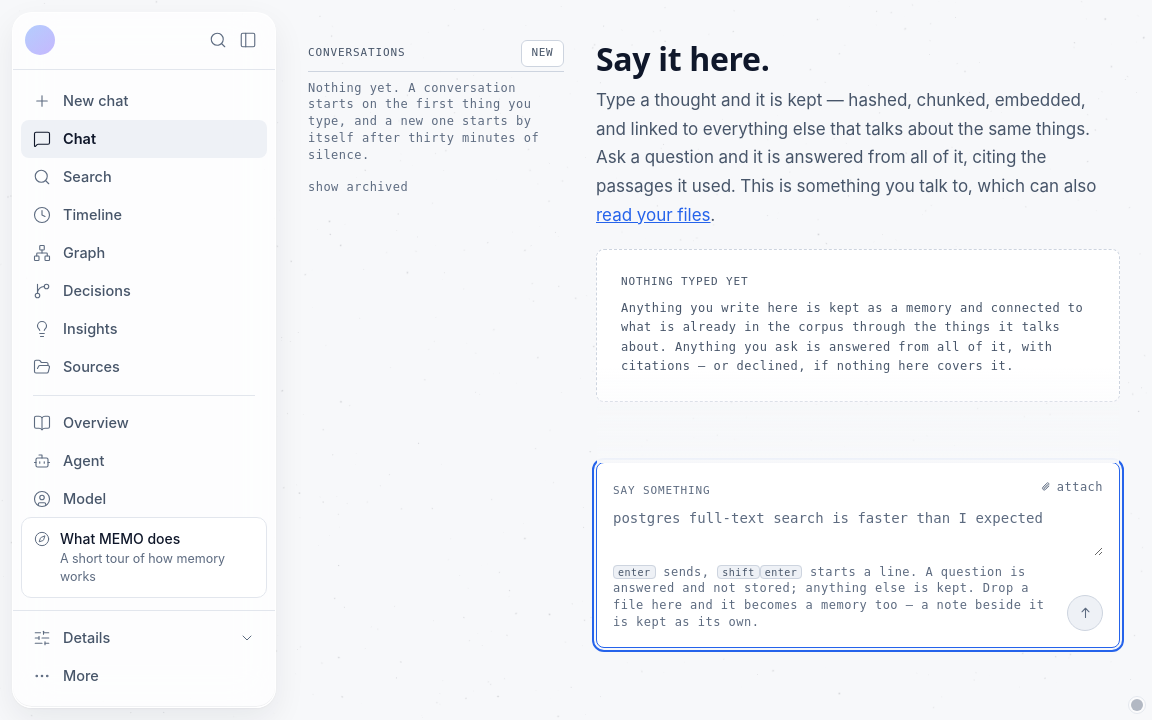
it: navigation › navigating to Model renders that route
Click the link "Model". click: (70, 499)
box: x1=33 y1=490 x2=106 y2=508
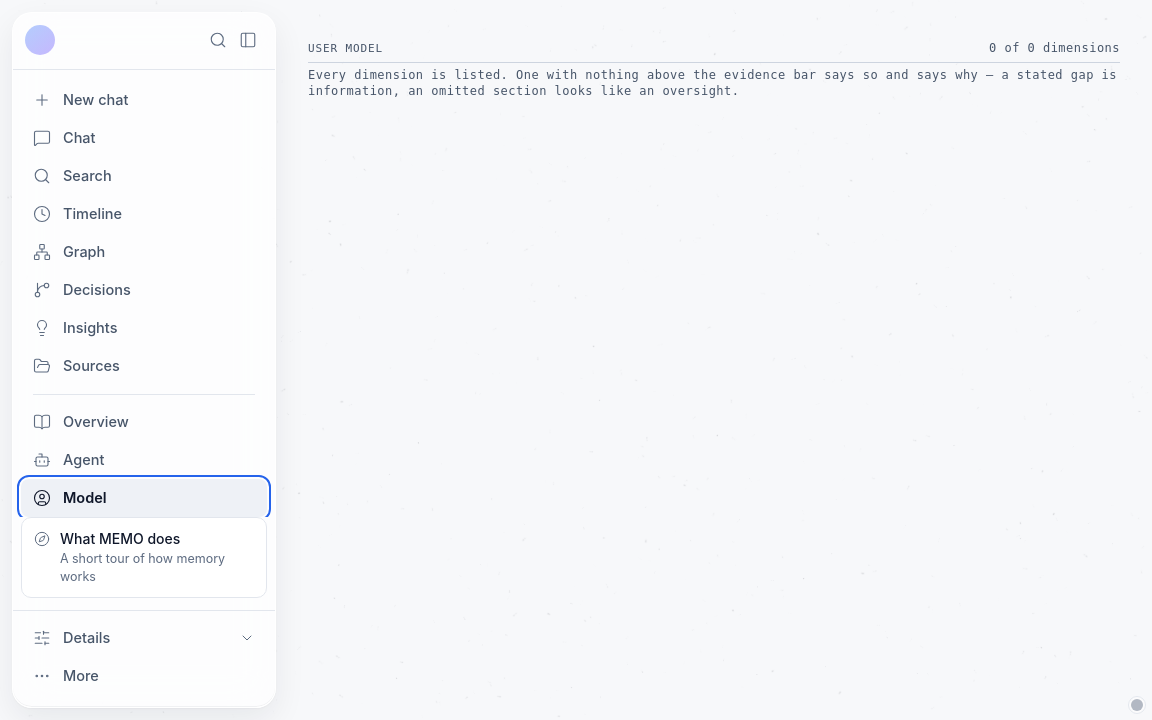
Expected: the heading "user model" is shown, x1=308 y1=41 x2=383 y2=58
